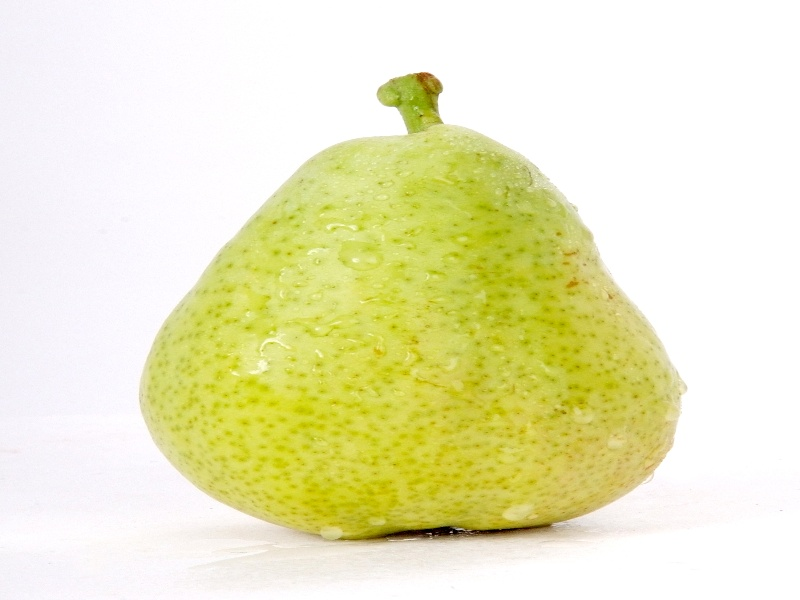Pera: (139, 72, 682, 540)
